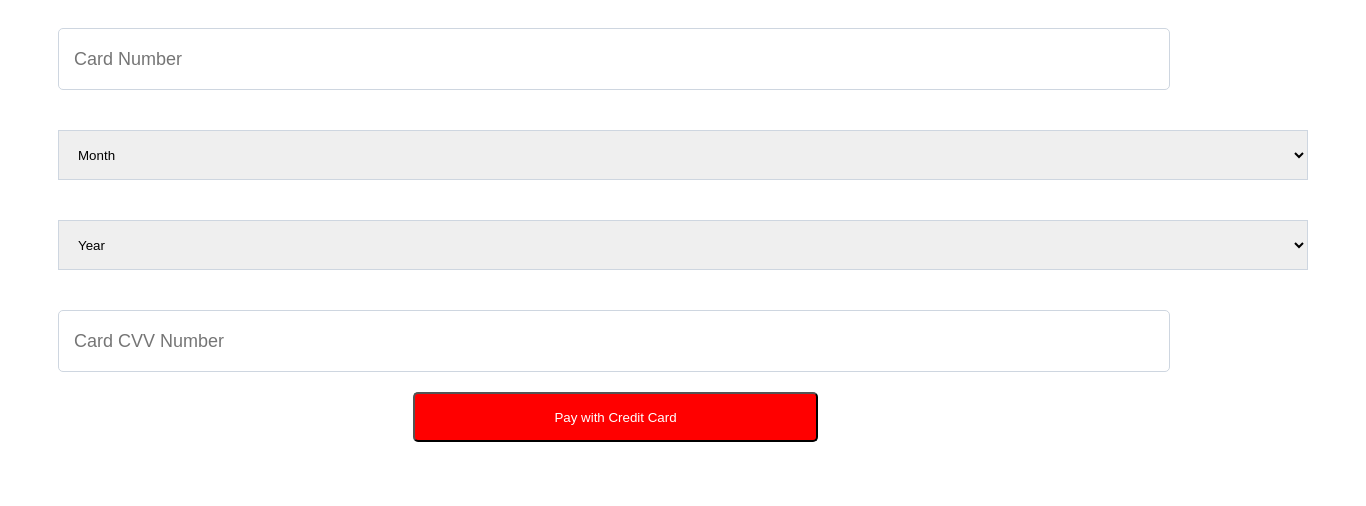
Credit Cart Component Tests › Should show cvv number must be 3 digits error message when Pay With Credit Card button clicked
Type "1234567899876543" into the field with id "cardNumber".
click(614, 59); type("1234567899876543")  # box [58, 28, 1170, 90]
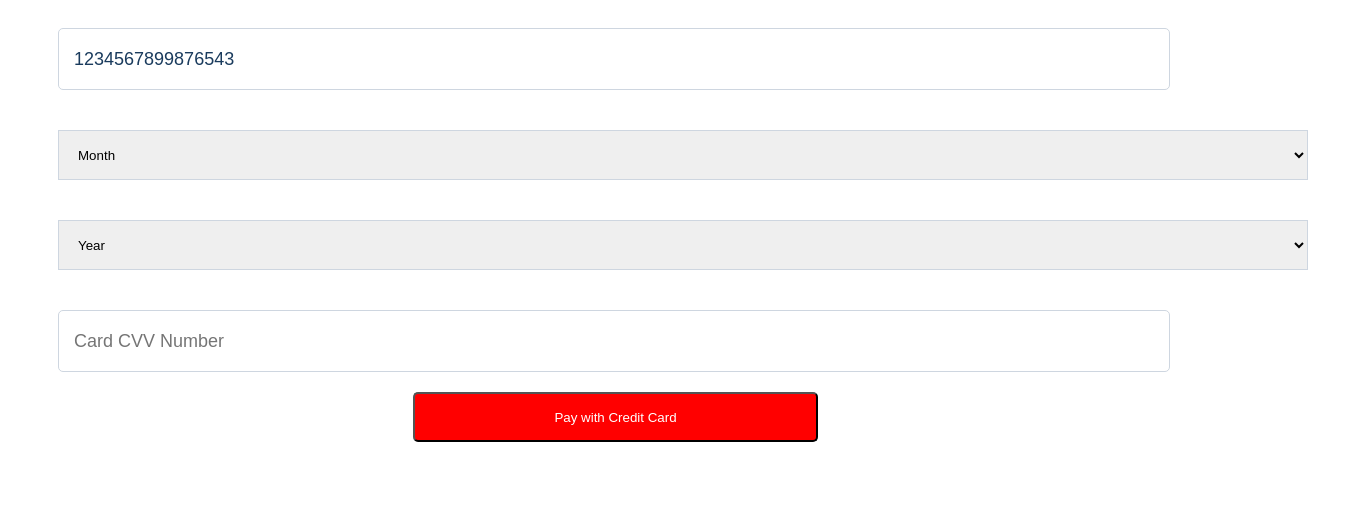
Select "01" in the dropdown with id "cardMonth" at {"x": 683, "y": 155}, box [58, 130, 1308, 180]
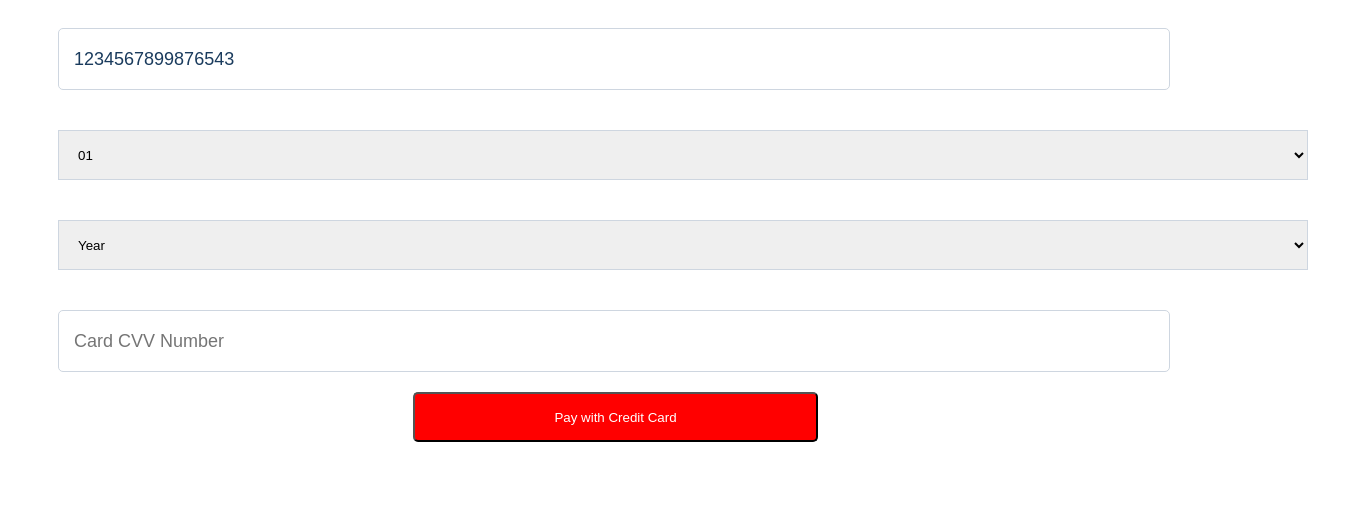
Select "2021" in the dropdown with id "cardYear" at {"x": 683, "y": 245}, box [58, 220, 1308, 270]
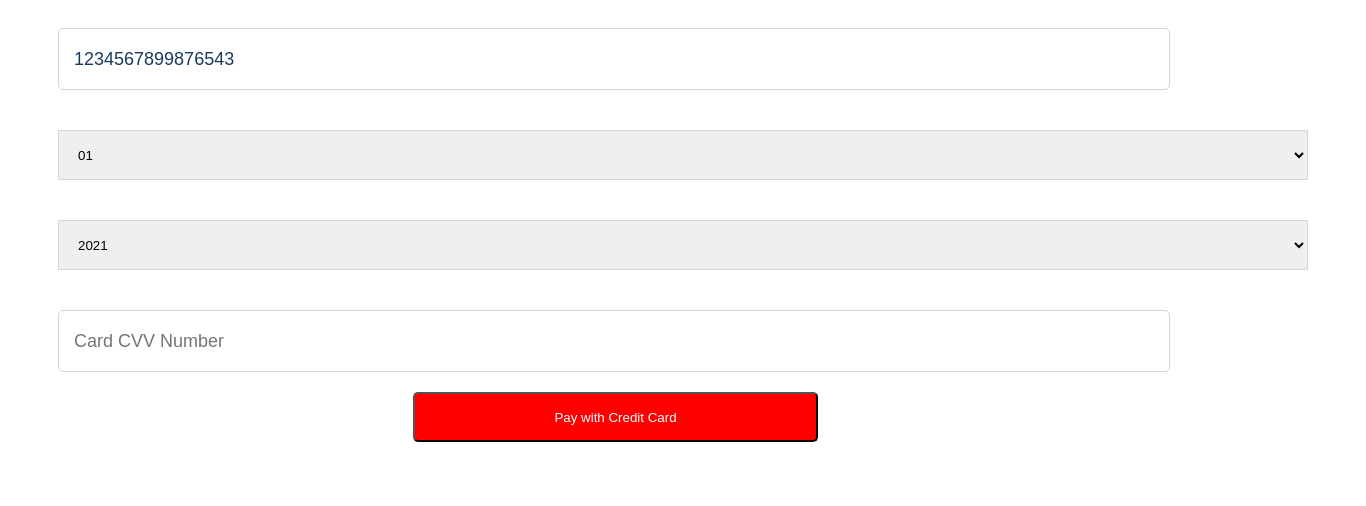
Click the button "Pay with Credit Card".
click(616, 417)  # box [413, 392, 818, 442]
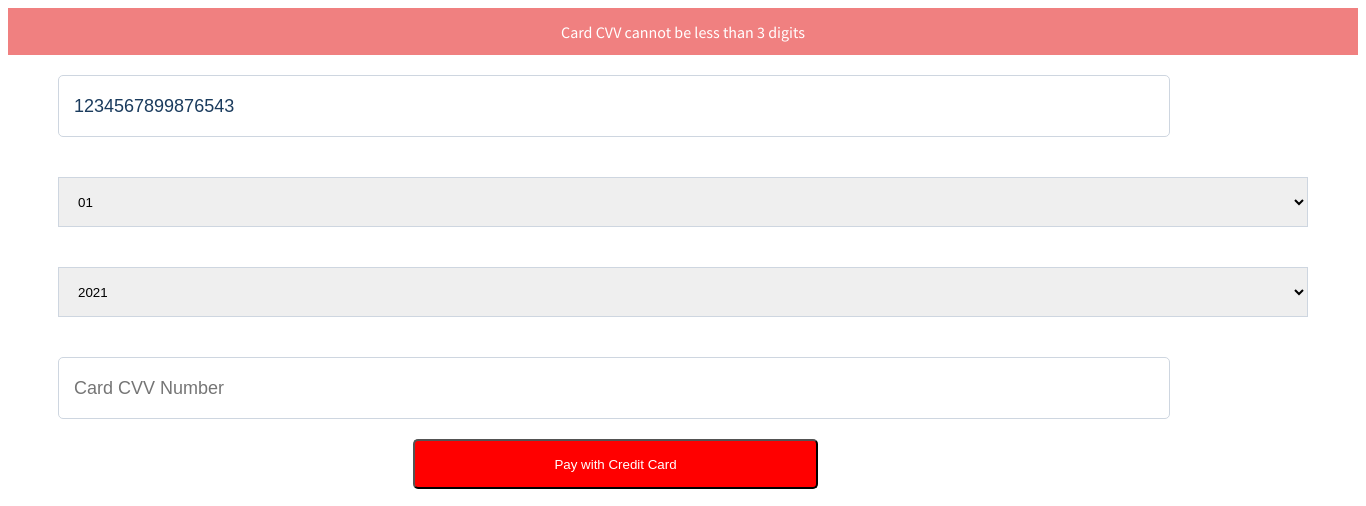
Now the text with id "errorSide" reads "Card CVV cannot be less than 3 digits", box [561, 22, 805, 42]
